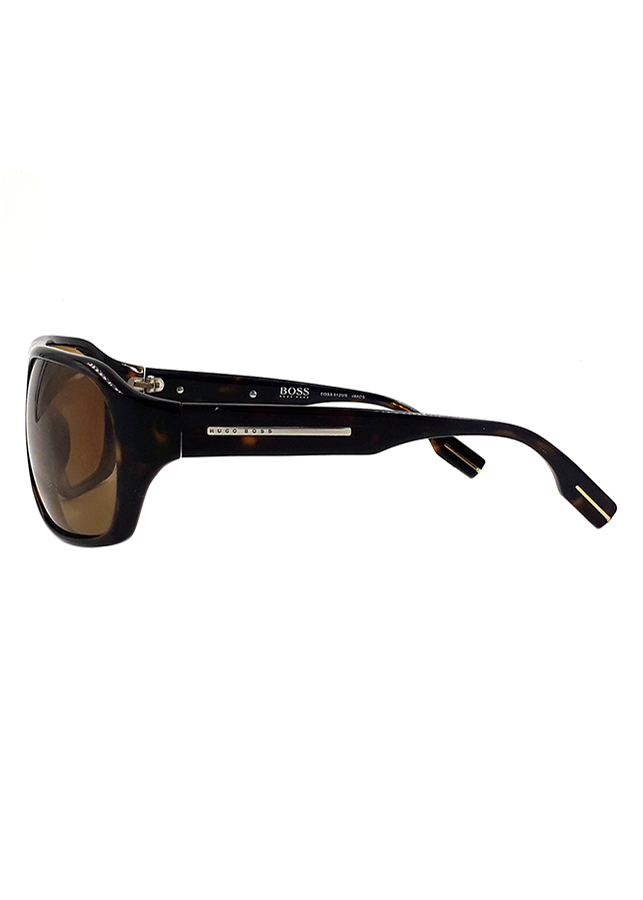Hugo Boss: (201, 425, 275, 443)
